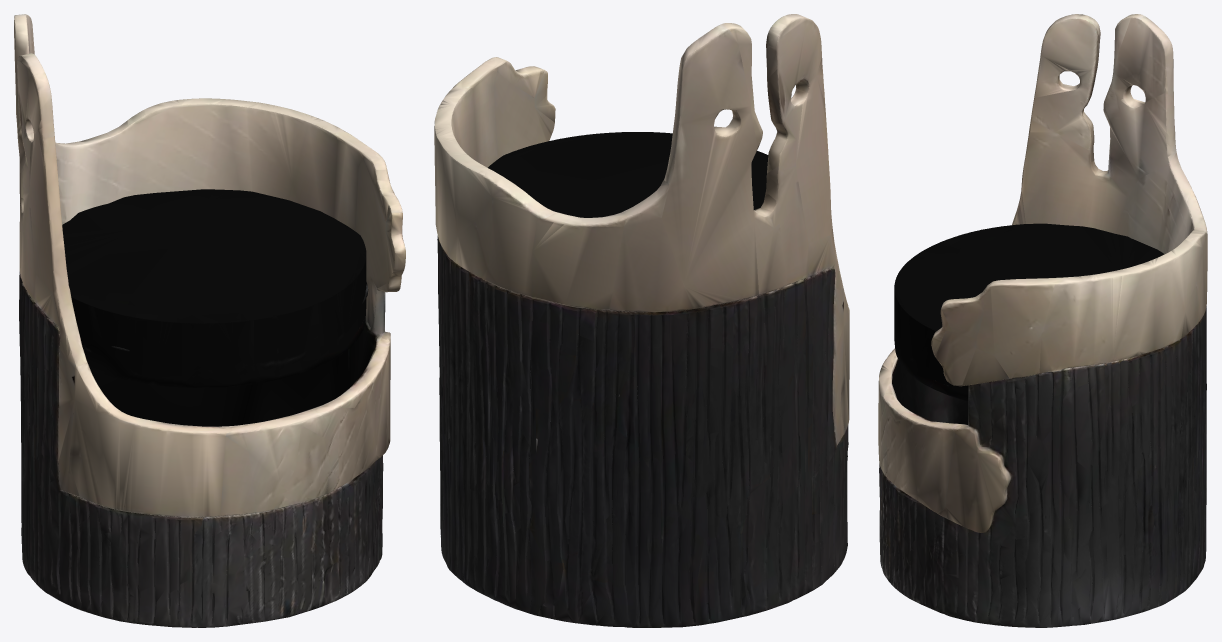
File: NMK.2005.0640_34680.glb
The picture shows the model from 3 angles, left to right: view 1: azimuth 30°, elevation 25°; view 2: azimuth 150°, elevation 25°; view 3: azimuth 270°, elevation 25°; orthographic projection. The views are drawn at different scales.
Parts seen in each view (by area): view 1: root.0, root.1; view 2: root.0, root.1; view 3: root.0, root.1.
Boxes of the visible parts, box(x1,y1,x2,y2) form: root.0: box(14, 14, 405, 627); root.1: box(62, 189, 366, 387); root.0: box(434, 14, 849, 627); root.1: box(488, 132, 768, 217); root.0: box(878, 14, 1207, 627); root.1: box(894, 223, 1164, 401).
Size of the model in its own units: 21662 by 33772 by 20677.
Materials: 1 (1 with a texture image).
